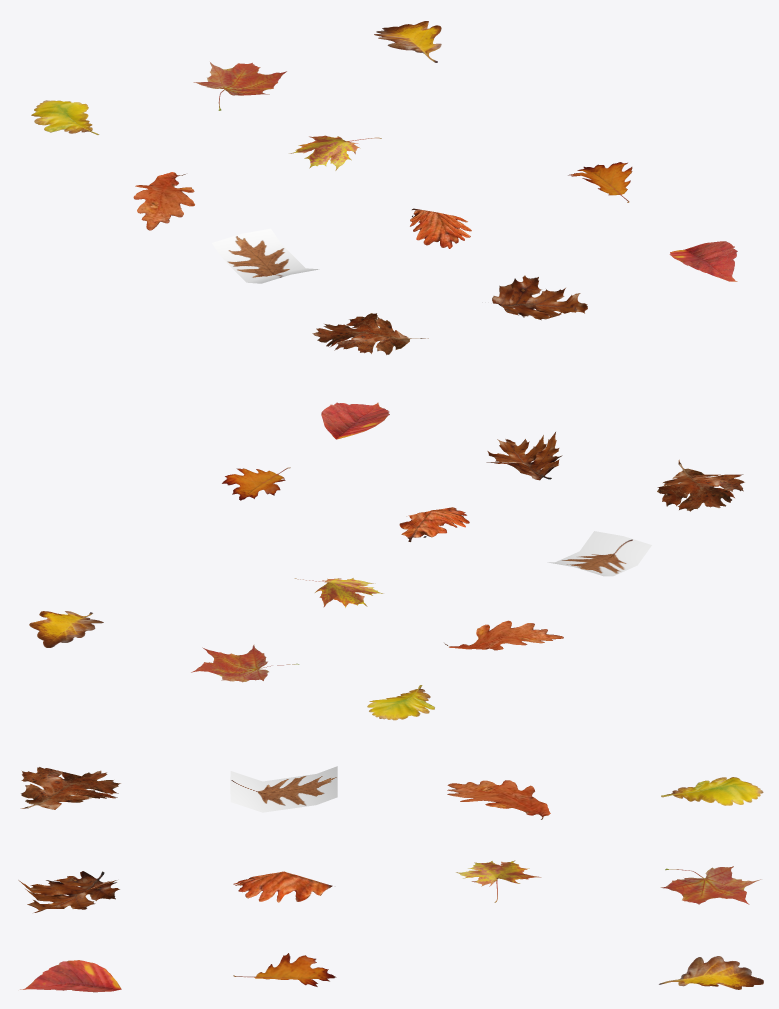
The picture shows the model from 3 angles, top to bottom: view 1: azimuth 30°, elevation 25°; view 2: azimuth 150°, elevation 25°; view 3: azimuth 270°, elevation 25°; orthographic projection. The views are drawn at different scales.
Parts seen in each view (by area): view 1: leaf_7, leaf_11, leaf_10, leaf_4, leaf_2, leaf_12, leaf_1, leaf_8, leaf_3, leaf_5, leaf_9; view 2: leaf_7, leaf_10, leaf_11, leaf_12, leaf_2, leaf_4, leaf_3, leaf_8, leaf_1, leaf_9, leaf_5; view 3: leaf_7, leaf_10, leaf_11, leaf_12, leaf_4, leaf_2, leaf_3, leaf_8, leaf_1, leaf_9, leaf_5.
Boxes of the visible parts, x1,y1,x2,y2 form: leaf_7: [212, 228, 319, 283]; leaf_11: [492, 275, 587, 320]; leaf_10: [312, 313, 428, 354]; leaf_4: [133, 172, 194, 230]; leaf_2: [193, 62, 286, 110]; leaf_12: [669, 241, 737, 281]; leaf_1: [31, 100, 99, 134]; leaf_8: [410, 208, 471, 248]; leaf_3: [374, 21, 441, 62]; leaf_5: [289, 135, 381, 170]; leaf_9: [568, 162, 632, 202]; leaf_7: [547, 531, 651, 576]; leaf_10: [657, 459, 744, 511]; leaf_11: [486, 432, 562, 480]; leaf_12: [321, 402, 389, 439]; leaf_2: [191, 644, 299, 682]; leaf_4: [444, 620, 563, 650]; leaf_3: [29, 611, 103, 647]; leaf_8: [399, 507, 469, 541]; leaf_1: [367, 685, 434, 720]; leaf_9: [222, 467, 290, 500]; leaf_5: [294, 578, 383, 607]; leaf_7: [230, 766, 337, 812]; leaf_10: [20, 767, 120, 809]; leaf_11: [18, 871, 119, 912]; leaf_12: [20, 960, 121, 992]; leaf_4: [447, 780, 550, 819]; leaf_2: [660, 866, 761, 904]; leaf_3: [659, 956, 763, 989]; leaf_8: [233, 871, 332, 902]; leaf_1: [661, 777, 763, 805]; leaf_9: [233, 953, 336, 986]; leaf_5: [456, 860, 541, 902].
Bounding box in the file's own units: 48.85 × 2.97 × 70.03.
Materials: 11 (11 with a texture image).
